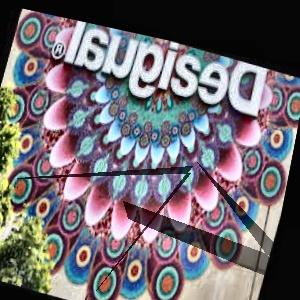desigual: (250, 58, 296, 71)
